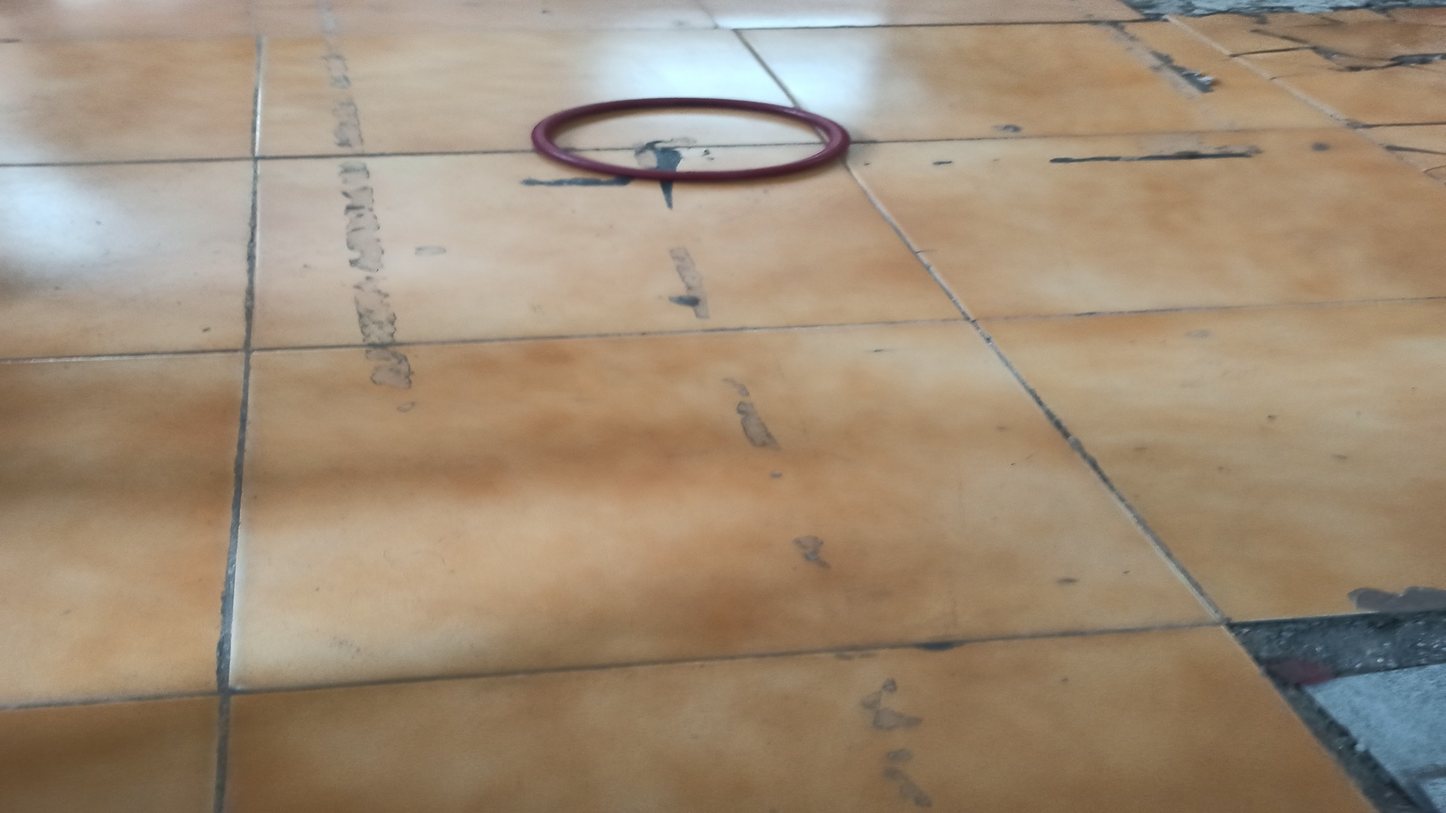Red ring: (532, 97, 853, 182)
